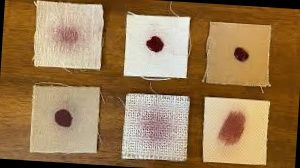wine: (138, 107, 177, 147), (217, 107, 249, 151), (51, 26, 91, 56), (54, 108, 78, 130), (143, 32, 165, 53), (228, 44, 247, 65)
